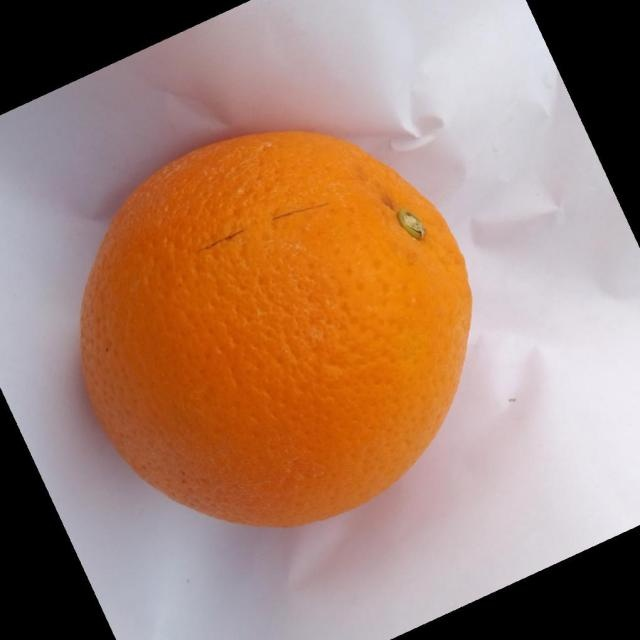agrume: (78, 128, 473, 529)
